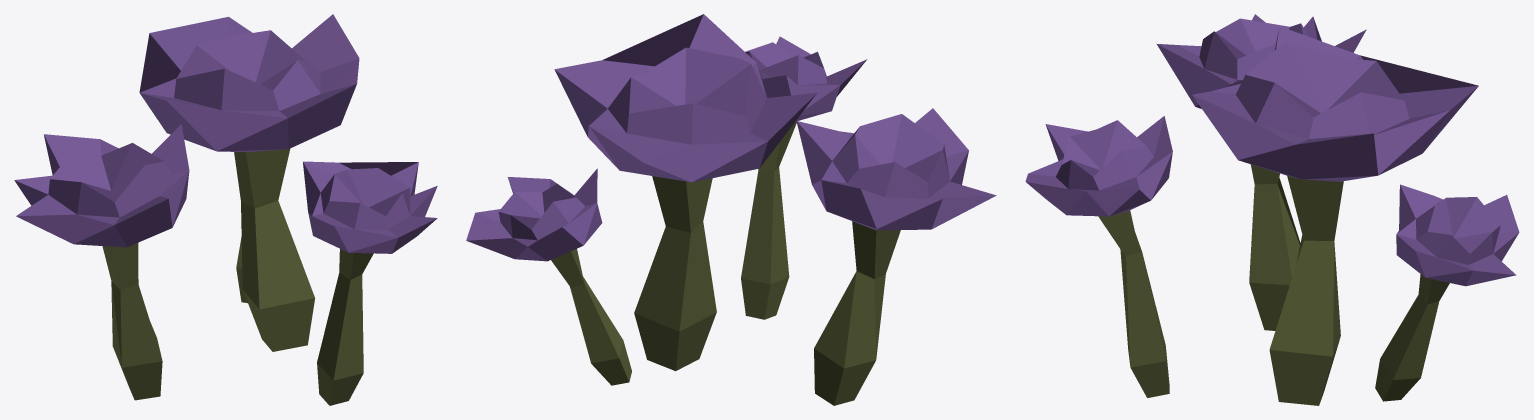
File: Zihuacao.FBX
3 renders of one model, left to right at view 1: azimuth 30°, elevation 25°; view 2: azimuth 150°, elevation 25°; view 3: azimuth 270°, elevation 25°, orthographic. The views are drawn at different scales.
Visible parts, largest first — view 1: 对象011; view 2: 对象011; view 3: 对象011.
Boxes of the visible parts, x1,y1,x2,y2 form: 对象011: (14,14,437,405); 对象011: (466,14,996,405); 对象011: (1025,14,1519,405).
Bounding box in the file's own units: 5.54 × 4.01 × 5.45.
